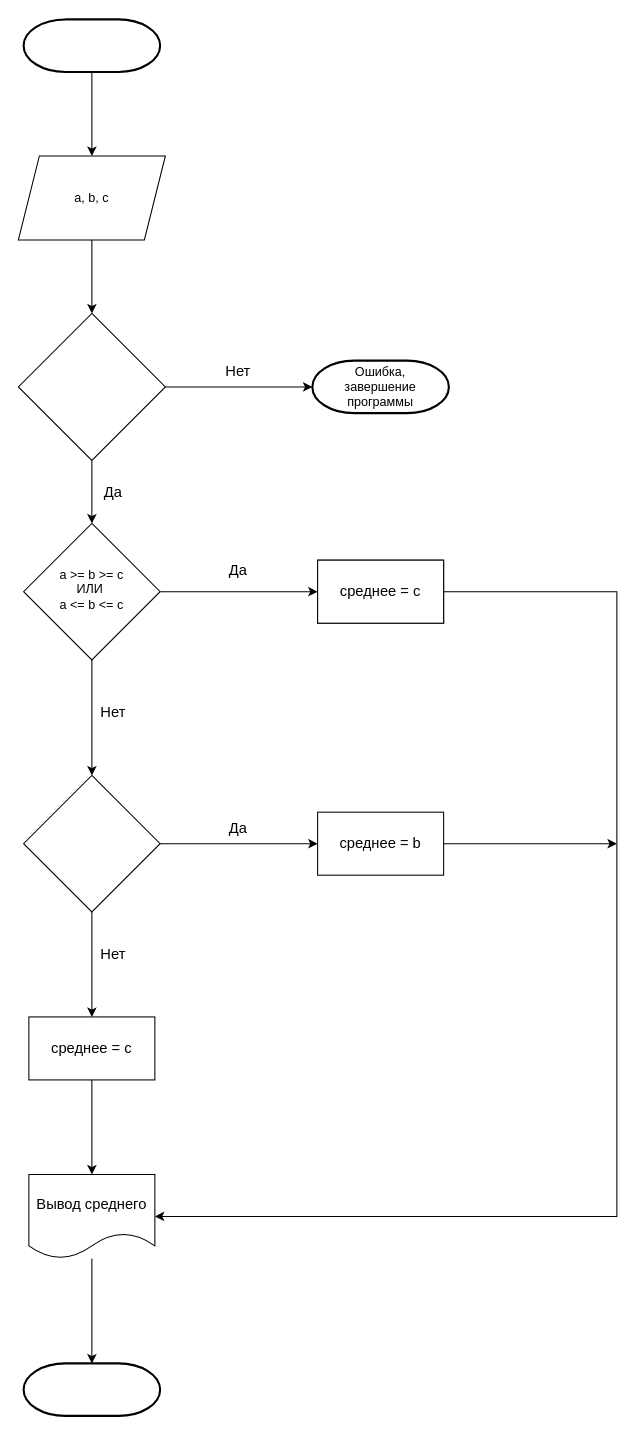
Some shapes in this 644 by 1434 pixel diagram are drawn without their labels. The shapes that lost their labels are listed below. From the top down, each one's centre as x and y in pixels, then its label:
At point (91, 45): "Начало".
At point (91, 386): "Пользователь ввел числа".
At point (91, 843): "b >= a >= c ИЛИ b <= a <= c".
At point (91, 1389): "Конец".
